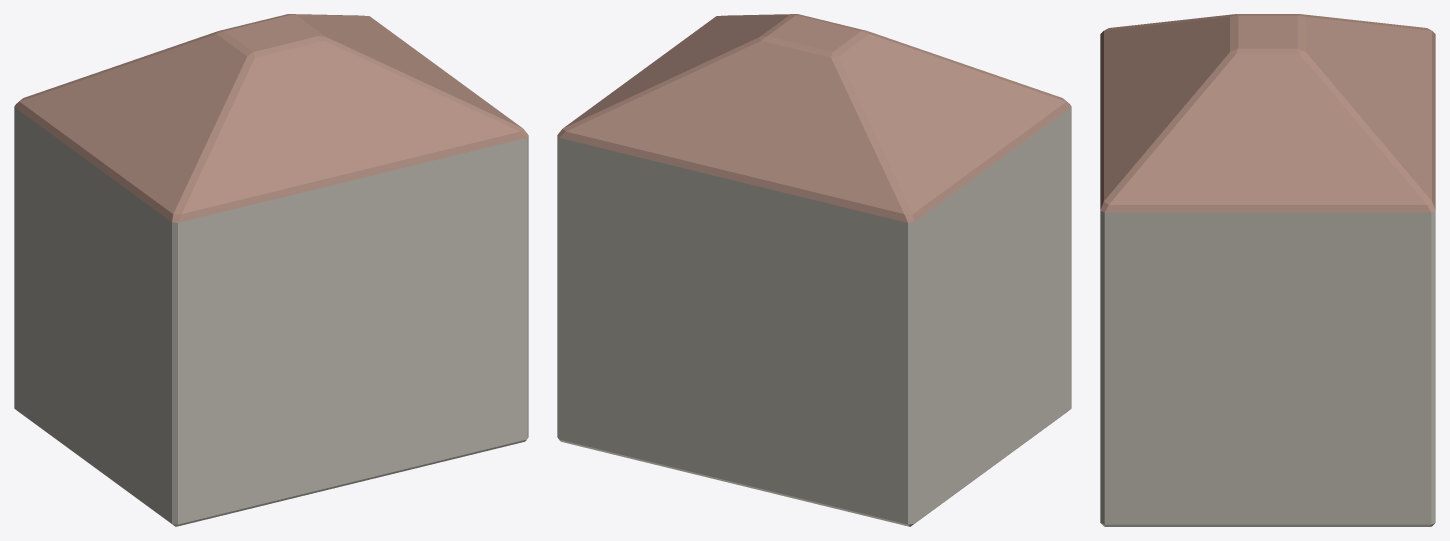
Rendered from town_villa_large.glb.
The picture shows the model from 3 angles, left to right: view 1: azimuth 30°, elevation 25°; view 2: azimuth 150°, elevation 25°; view 3: azimuth 270°, elevation 25°; orthographic projection. The views are drawn at different scales.
Visible parts, largest first — view 1: villa; view 2: villa; view 3: villa.
Boxes of the visible parts, x1,y1,x2,y2 form: villa: (14, 14, 528, 526); villa: (557, 14, 1071, 526); villa: (1100, 14, 1435, 526).
Bounding box in the file's own units: 0.38 × 0.4 × 0.299.
